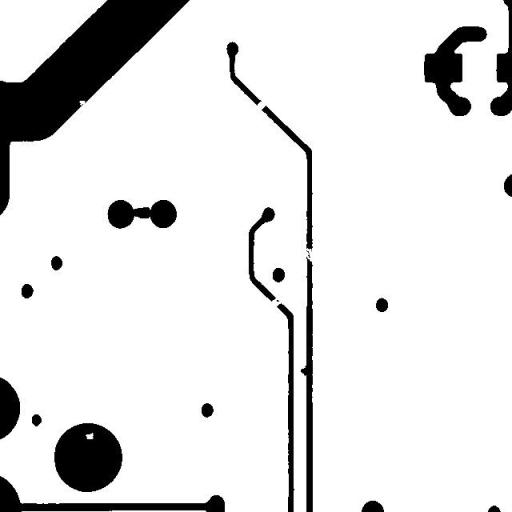copper: (24, 406, 49, 434)
mousebite: (71, 93, 93, 113)
open: (295, 240, 322, 270), (263, 288, 289, 314), (248, 94, 274, 119)
pin-hole: (78, 425, 100, 446)
short: (122, 199, 167, 226)
spur: (292, 358, 318, 383)
